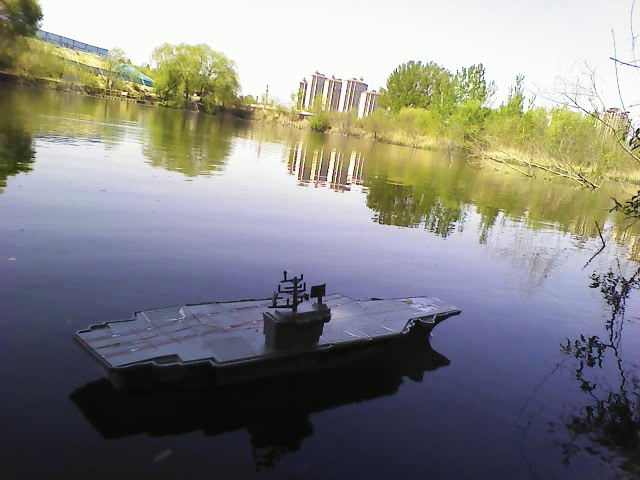aircraft_carrier: (71, 277, 464, 378)
